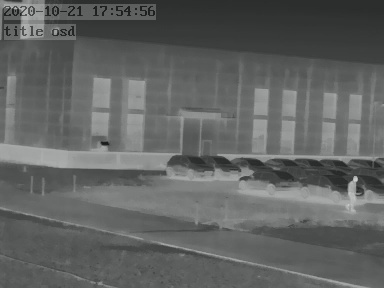person: (346, 176, 358, 212)
vehicle: (238, 169, 301, 195), (300, 175, 347, 201), (165, 153, 212, 178), (205, 154, 242, 177), (358, 175, 384, 203), (233, 154, 270, 172), (340, 156, 380, 172), (317, 156, 354, 171), (262, 155, 296, 170), (295, 155, 326, 169)
